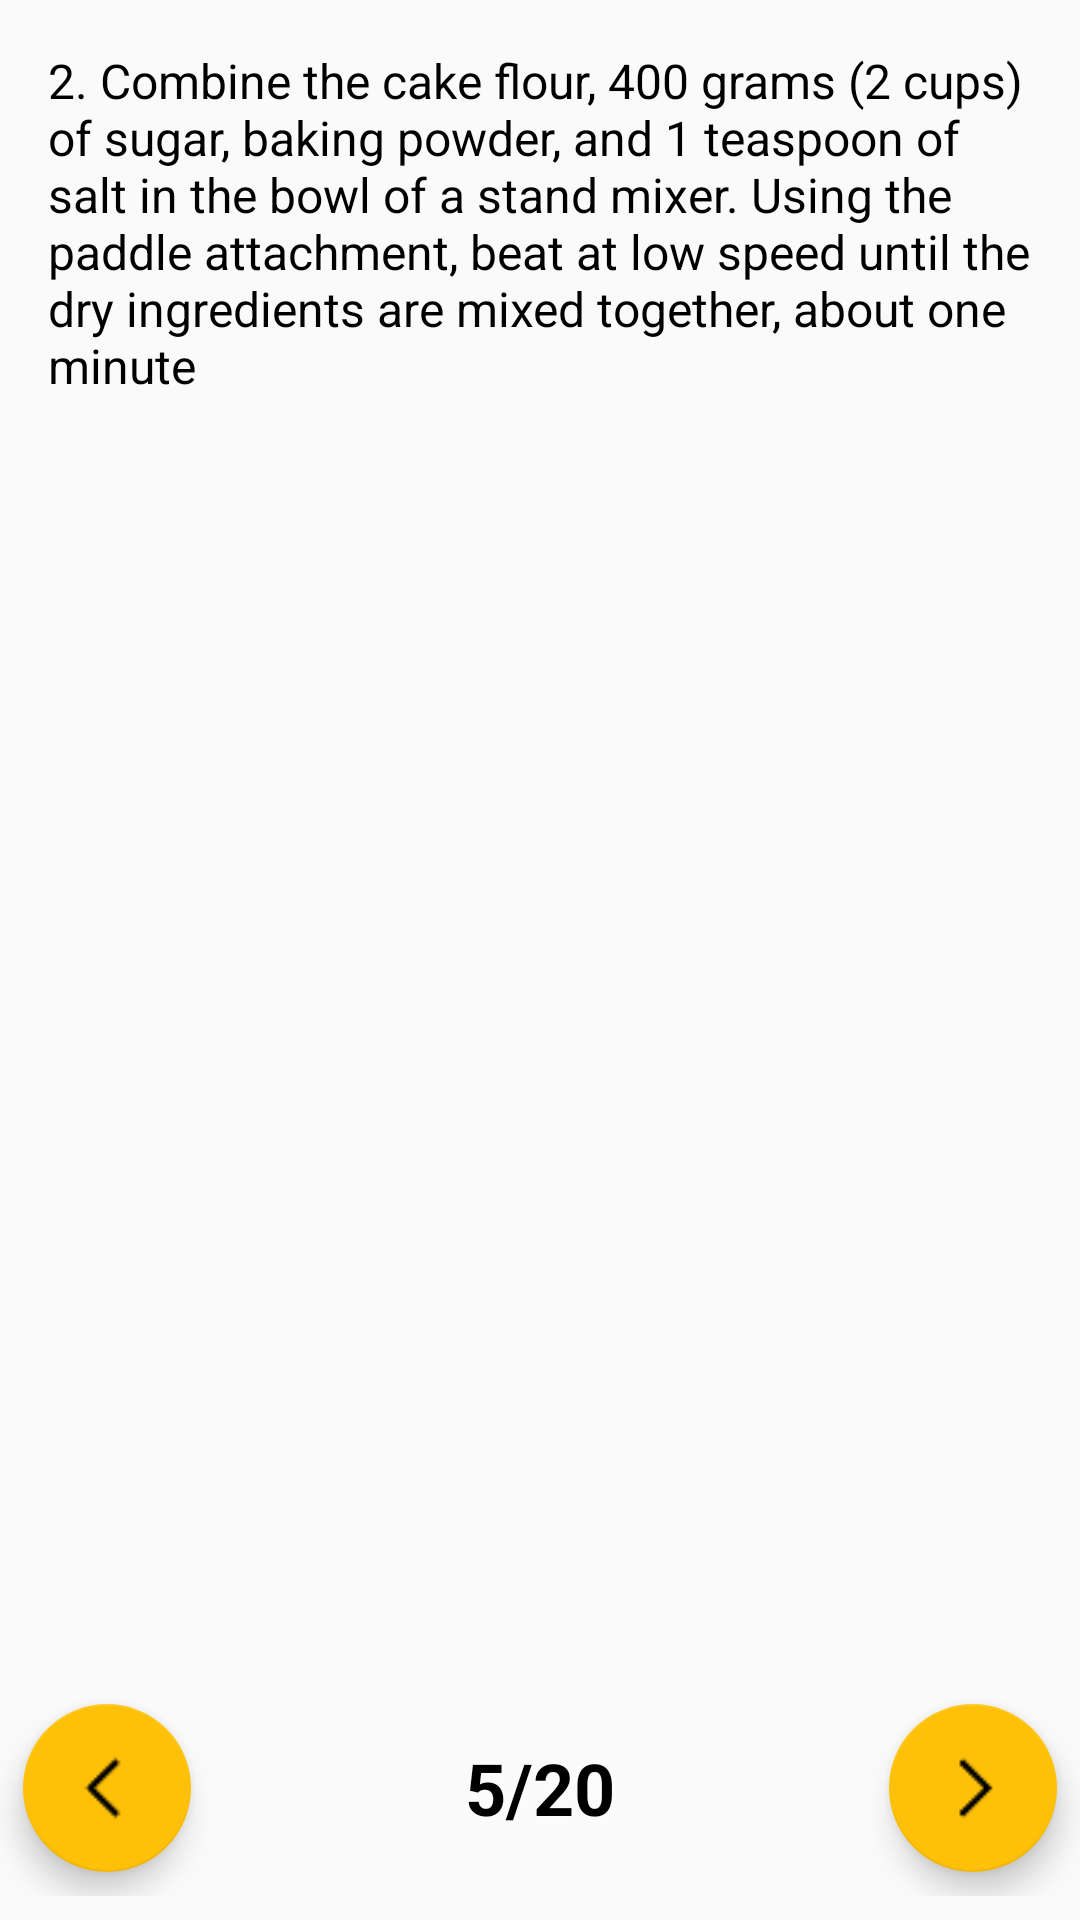

Icons on this 1080px x 1920px Android screen, each with its box as (x1, y1, x2, y2):
back: (23, 1704, 191, 1872)
forward: (889, 1704, 1057, 1872)
